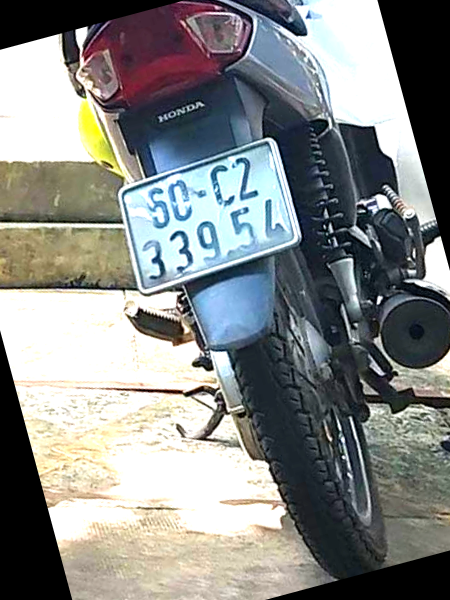number: (118, 138, 301, 295)
